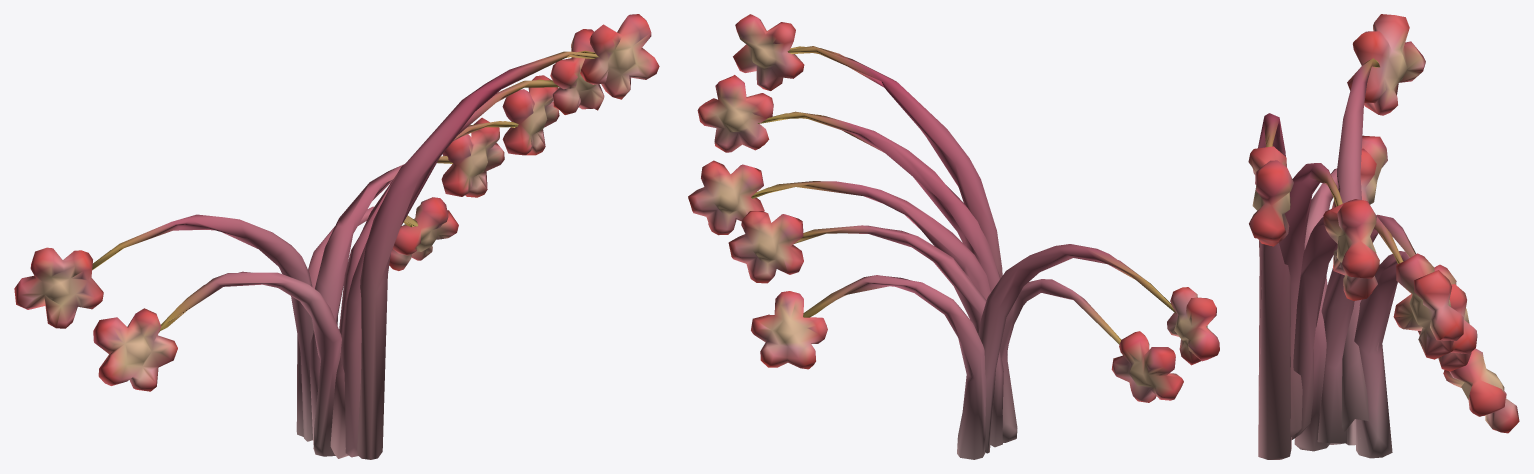
3 renders of one model, left to right at view 1: azimuth 30°, elevation 25°; view 2: azimuth 150°, elevation 25°; view 3: azimuth 270°, elevation 25°, orthographic. The views are drawn at different scales.
Parts seen in each view (by area): view 1: LOD 2_4441588532611241159_8b1ec056629fd29428edb46917b1fdee; view 2: LOD 2_4441588532611241159_8b1ec056629fd29428edb46917b1fdee; view 3: LOD 2_4441588532611241159_8b1ec056629fd29428edb46917b1fdee.
Part boxes in pixels (<box>): LOD 2_4441588532611241159_8b1ec056629fd29428edb46917b1fdee: <box>14,14,659,459</box>; LOD 2_4441588532611241159_8b1ec056629fd29428edb46917b1fdee: <box>688,14,1219,459</box>; LOD 2_4441588532611241159_8b1ec056629fd29428edb46917b1fdee: <box>1248,14,1519,459</box>.
Bounding box in the file's own units: 13.81 × 8.58 × 4.65.
